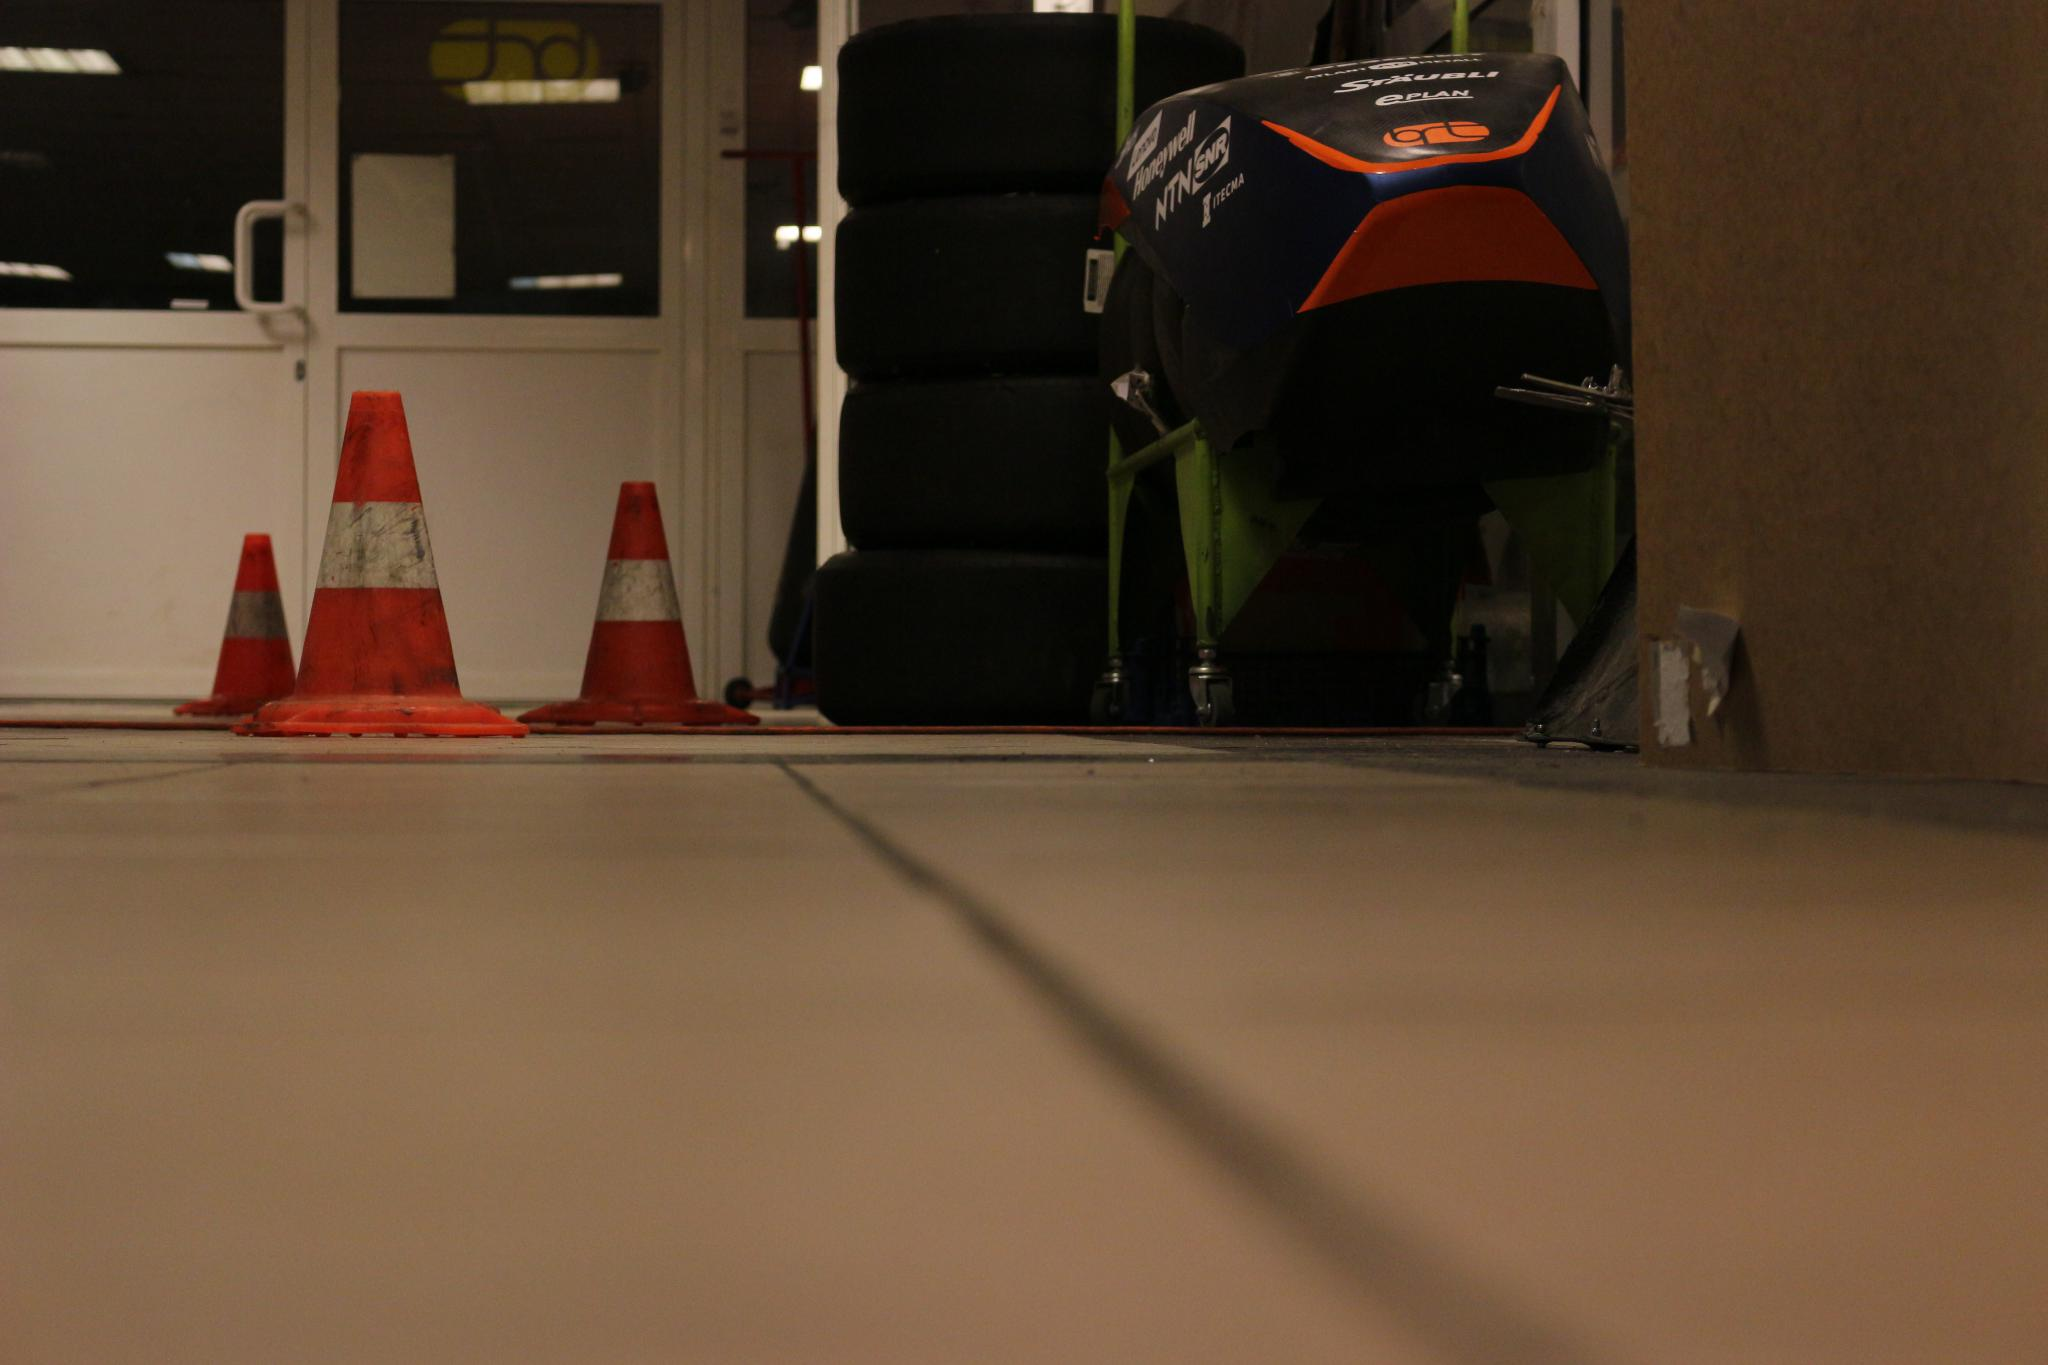Orange_Cone: (247, 384, 515, 737), (510, 472, 738, 730), (169, 526, 318, 725)
